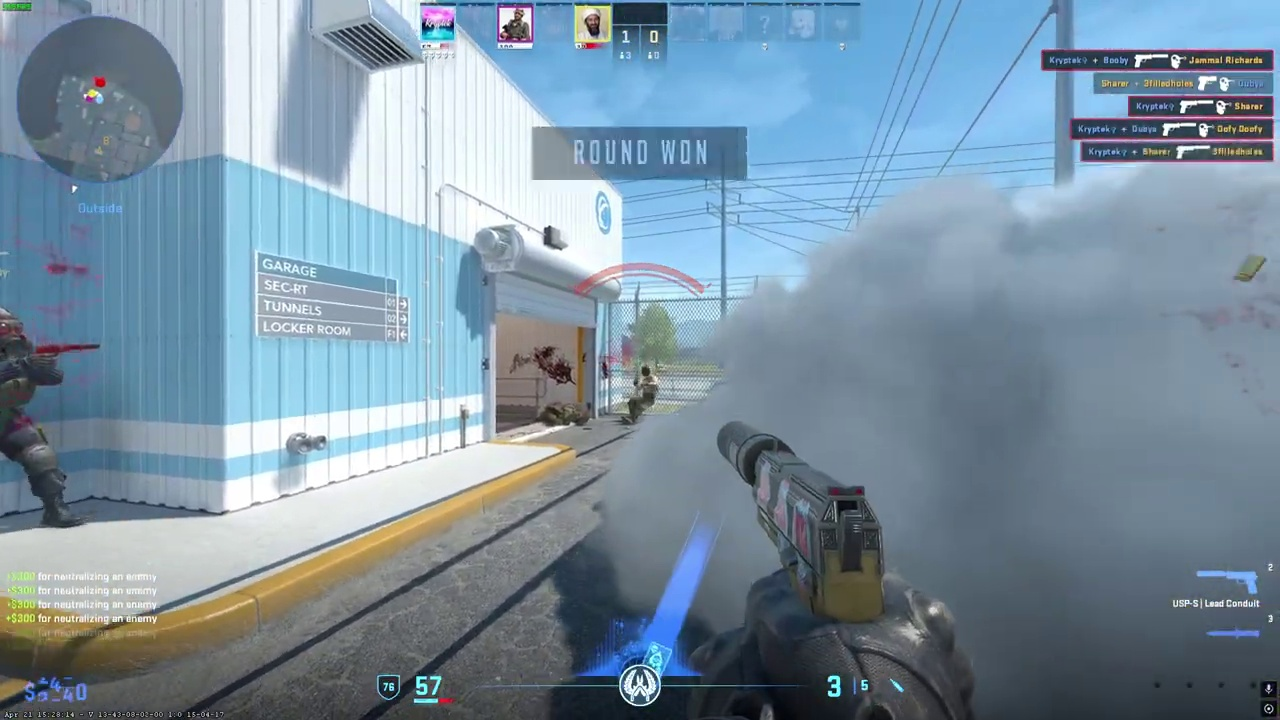CT: (0, 303, 78, 528)
Terrorist: (624, 365, 658, 426)
